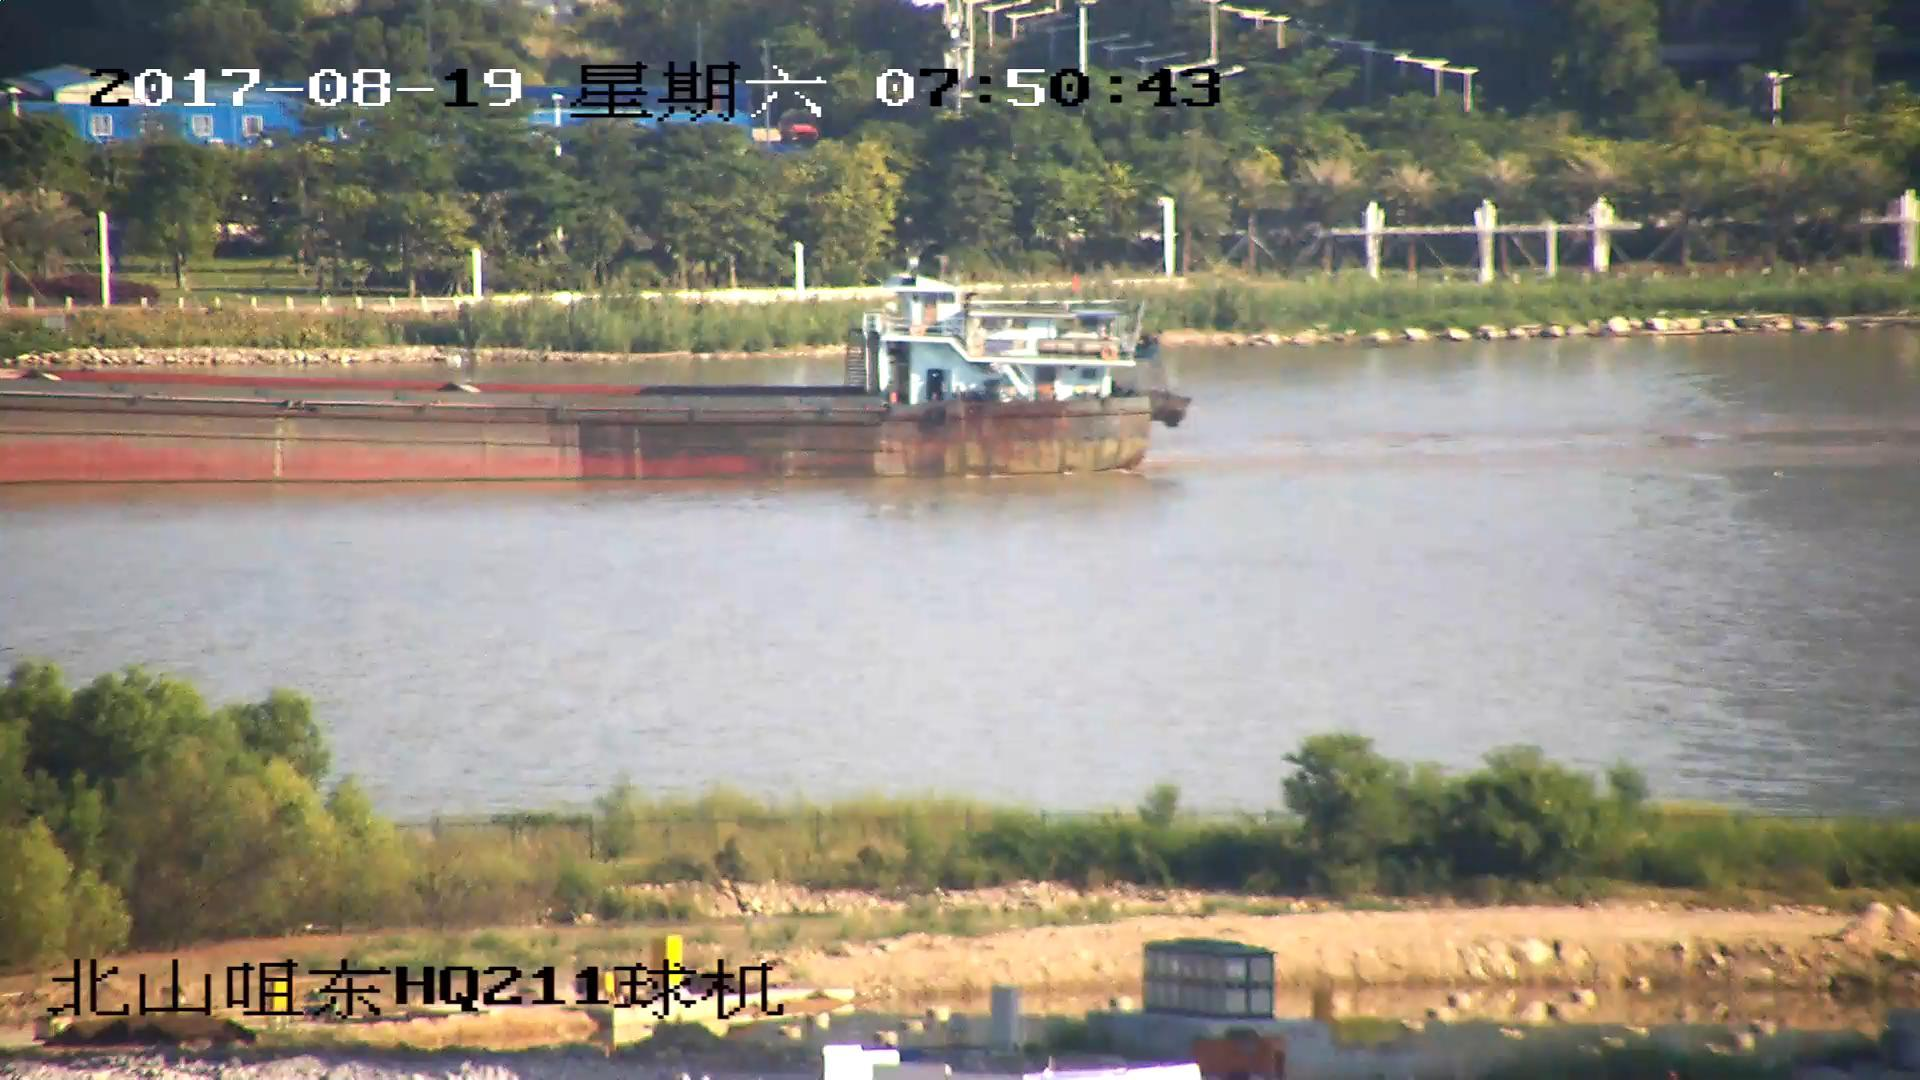Ship: (3, 260, 1191, 485)
